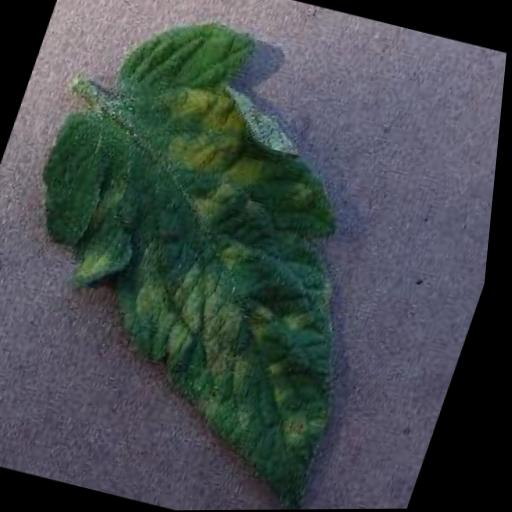Leaf Mold: (0, 0, 459, 512)
